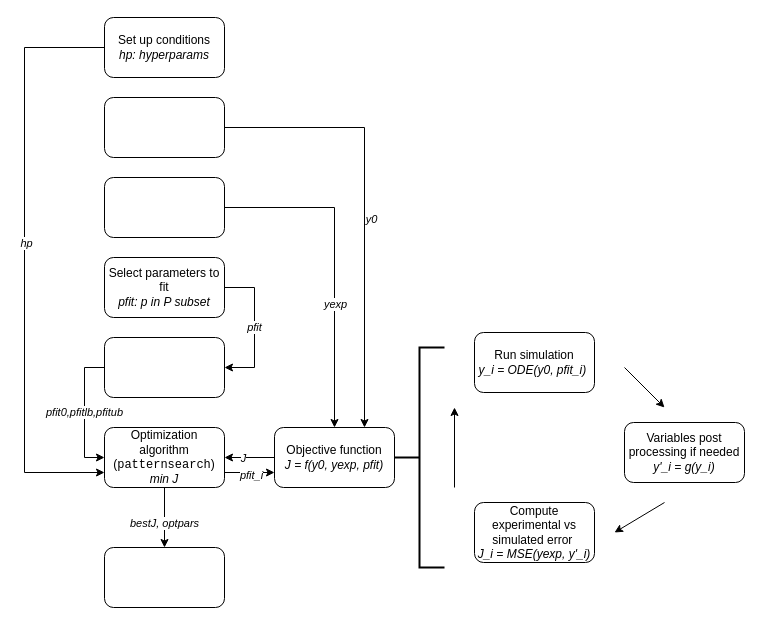
Image size: 762x625. Some labels were removed from this diagram. The centre of each missing label's shape, as x and y in pixels:
"Load Experimental Data yexp" goes at [164,207].
"Load initial conditions y0" goes at [164,127].
"Save optargs" goes at [164,577].
"Set parameters initial conditions and intervals pfit0, pfitlb, pfitub" goes at [164,367].
